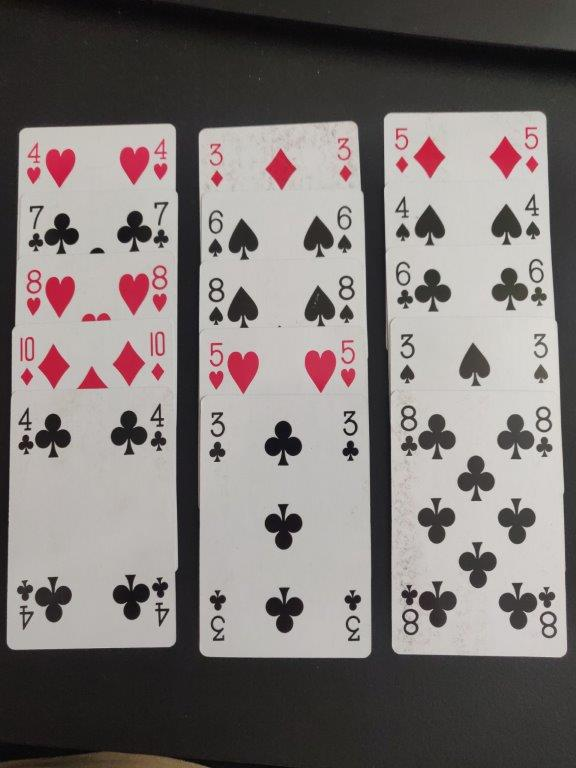10D: (143, 325, 169, 384), (14, 334, 38, 385)
3C: (202, 407, 230, 468), (337, 407, 361, 463)
3D: (202, 137, 230, 192), (331, 129, 357, 184)
3S: (526, 326, 553, 387), (395, 325, 420, 386)
4C: (15, 403, 36, 460), (146, 399, 168, 453)
4H: (19, 137, 46, 187), (150, 137, 172, 183)
4S: (521, 190, 547, 245), (391, 191, 414, 247)
5D: (391, 122, 414, 180), (519, 123, 543, 175)
5H: (203, 338, 229, 397), (336, 333, 359, 389)
6C: (388, 254, 419, 315), (525, 255, 549, 310)
6S: (202, 203, 228, 264), (333, 199, 358, 257)
7C: (149, 198, 175, 253), (22, 199, 45, 256)
8C: (396, 399, 420, 463), (529, 403, 554, 463)
8H: (20, 265, 48, 318), (149, 262, 171, 316)
8S: (334, 265, 359, 328), (203, 274, 230, 329)
